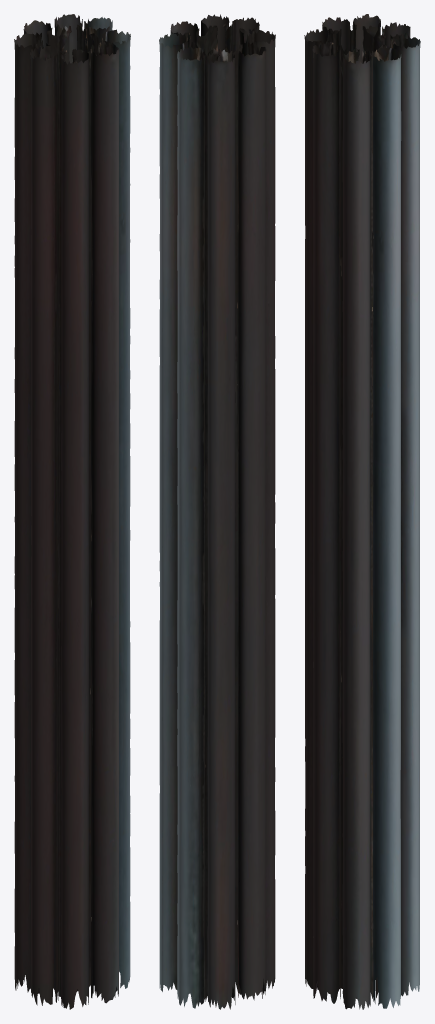
Rendered from door_frame_side.fbx.
3 views of the same model, side by side, from view 1: azimuth 30°, elevation 25°; view 2: azimuth 210°, elevation 25°; view 3: azimuth 330°, elevation 25° (orthographic).
Visible parts, largest first — view 1: pillar.003; view 2: pillar.003; view 3: pillar.003.
Boxes of the visible parts, x1,y1,x2,y2 form: pillar.003: (14, 14, 130, 1009); pillar.003: (159, 14, 275, 1009); pillar.003: (304, 14, 420, 1009).
Size of the model in its own units: 29.18 by 276 by 27.62.
